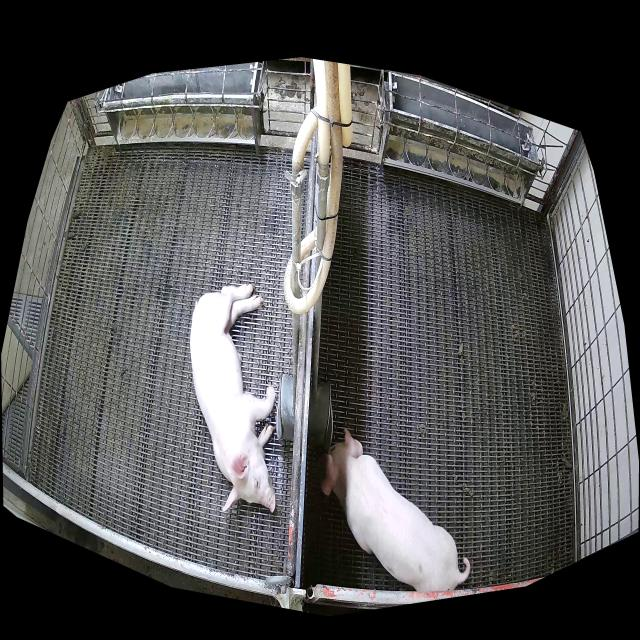pig: (318, 429, 469, 592), (190, 284, 280, 508)
